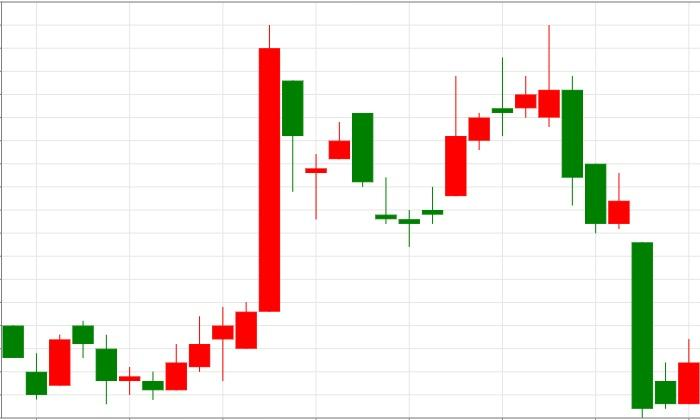shooting_star_fall: (398, 25, 561, 247)
